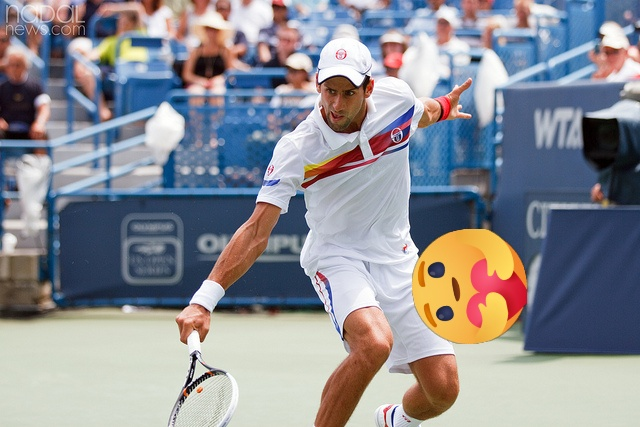care: (412, 229, 527, 344)
